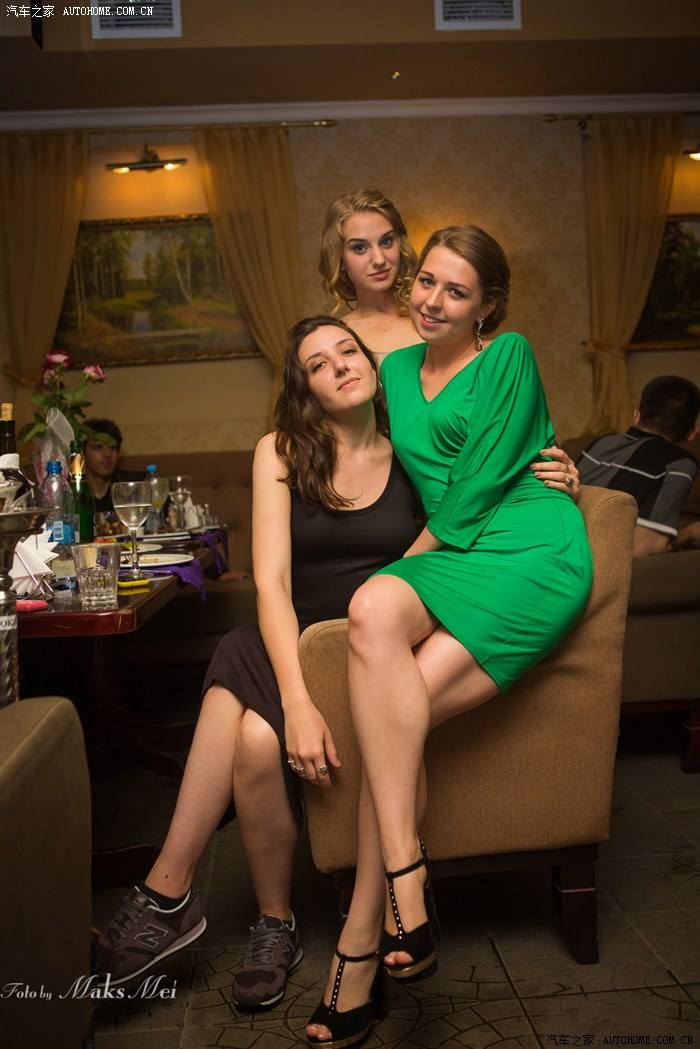person: (214, 265, 399, 707)
